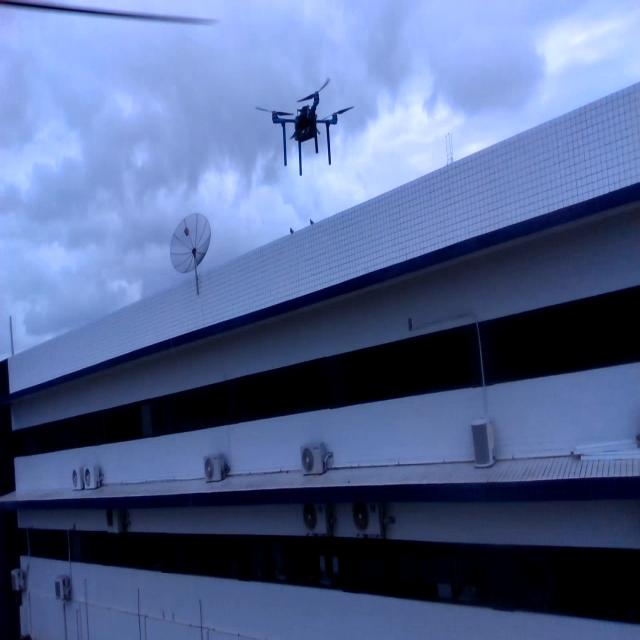-uav-: (252, 62, 362, 188)
